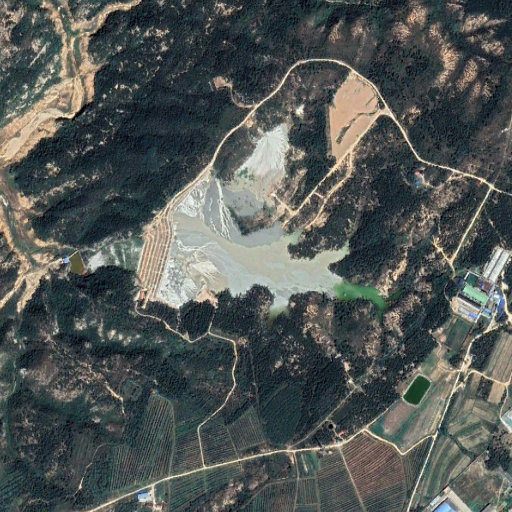tp: (133, 197, 388, 321)
